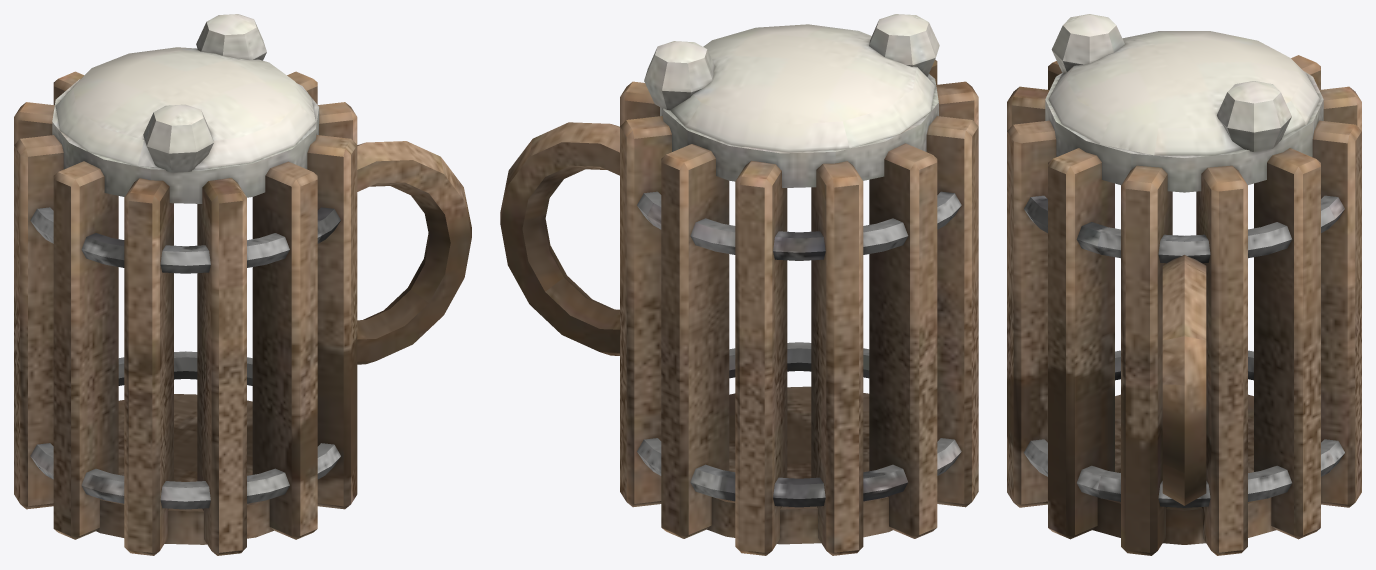
The model's file is caneca_cerveja.glb.
3 renders of one model, left to right at view 1: azimuth 30°, elevation 25°; view 2: azimuth 150°, elevation 25°; view 3: azimuth 270°, elevation 25°, orthographic. The views are drawn at different scales.
Parts seen in each view (by area): view 1: caneca_cerveja; view 2: caneca_cerveja; view 3: caneca_cerveja.
Part boxes in pixels (x1=…): caneca_cerveja: x1=14, y1=14, x2=471, y2=555; caneca_cerveja: x1=500, y1=14, x2=978, y2=555; caneca_cerveja: x1=1007, y1=14, x2=1361, y2=555.
Size of the model in its own units: 0.1641 by 0.154 by 0.1122.
1 material, 1 textured.
